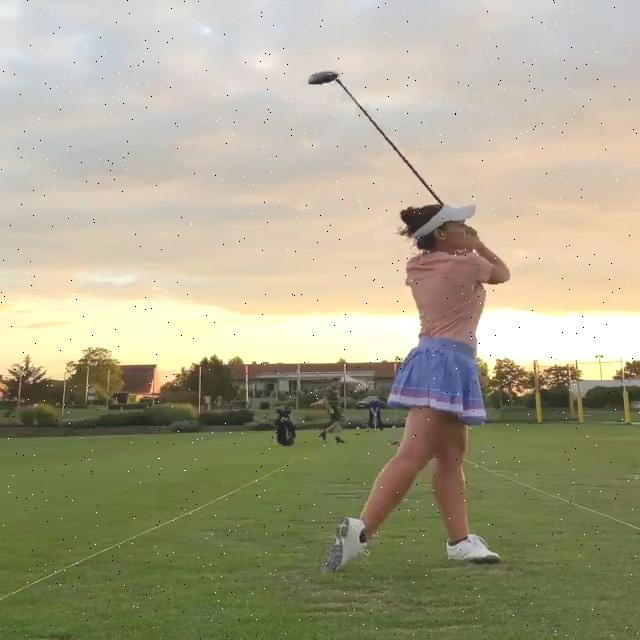golf club-handle: (307, 71, 447, 208)
golf club-head: (307, 71, 340, 86)
